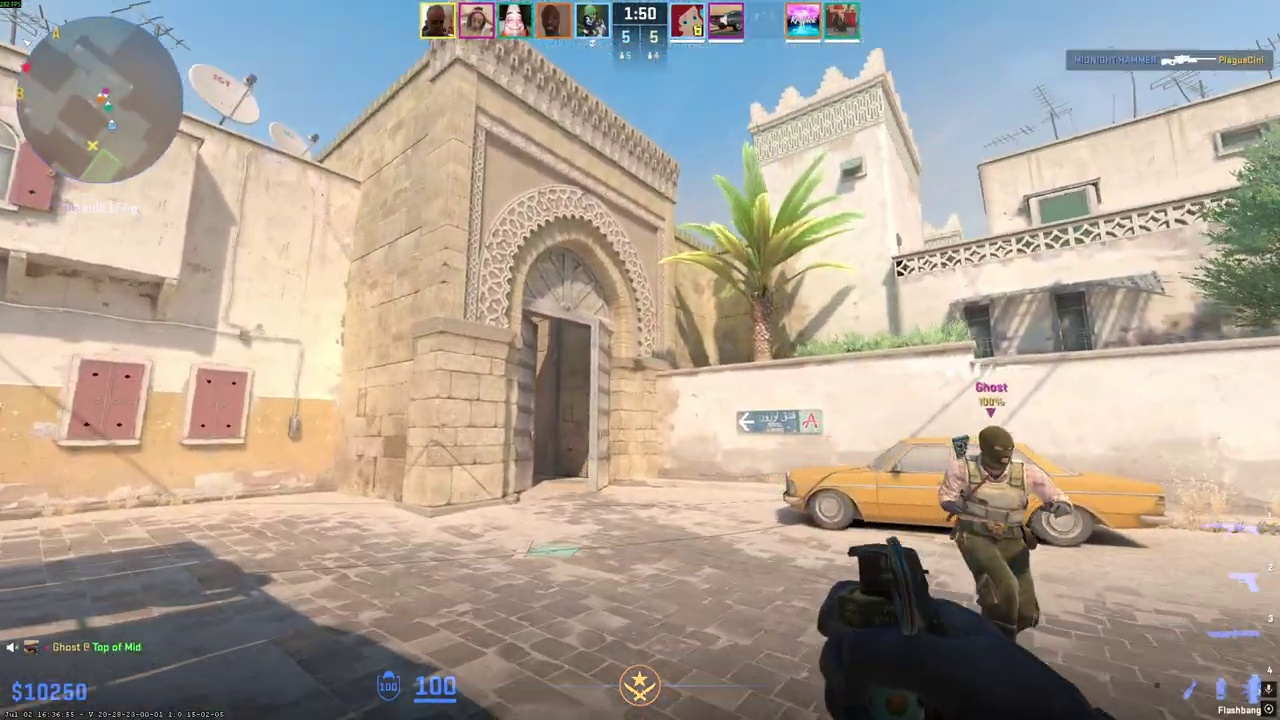Terrorist: (942, 426, 1062, 643)
